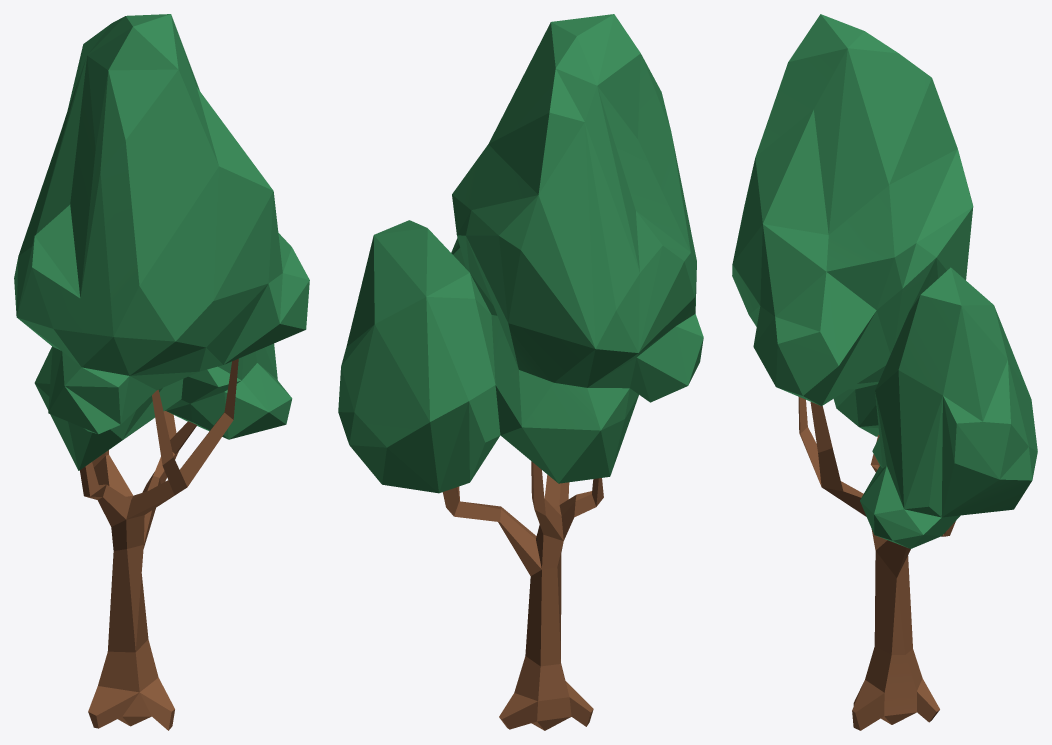
The model's file is Env_Tree_02.fbx.
3 renders of one model, left to right at view 1: azimuth 30°, elevation 25°; view 2: azimuth 150°, elevation 25°; view 3: azimuth 270°, elevation 25°, orthographic. The views are drawn at different scales.
Parts seen in each view (by area): view 1: Tree_02; view 2: Tree_02; view 3: Tree_02.
Boxes of the visible parts, left/top/right/bottom form: Tree_02: left=14, top=14, right=309, bottom=730; Tree_02: left=338, top=14, right=703, bottom=730; Tree_02: left=732, top=14, right=1037, bottom=730.
Bounding box in the file's own units: 758 × 1810 × 722.
